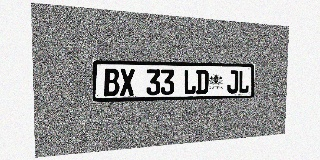3: (146, 69, 160, 95), (161, 69, 174, 95)
B: (104, 68, 119, 96)
D: (196, 70, 208, 94)
J: (227, 70, 238, 93)
L: (183, 70, 196, 94), (238, 70, 249, 93)
X: (120, 69, 135, 96)
